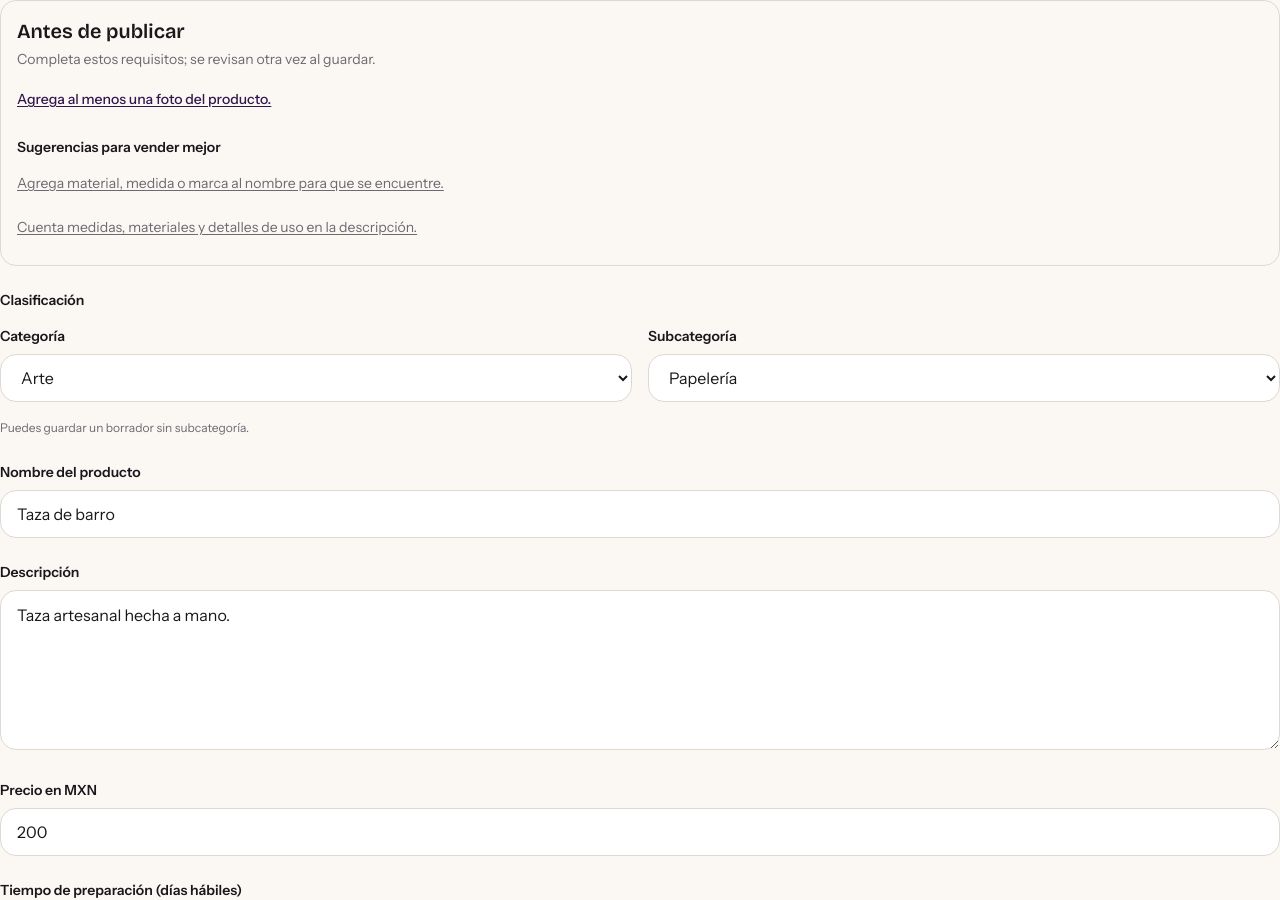
Test case: product submission recovery › clears checklist classification immediately when parent changes
Select "Selecciona una categoría" in the dropdown labelled "Categoría" at (316, 378), box [0, 354, 632, 402]
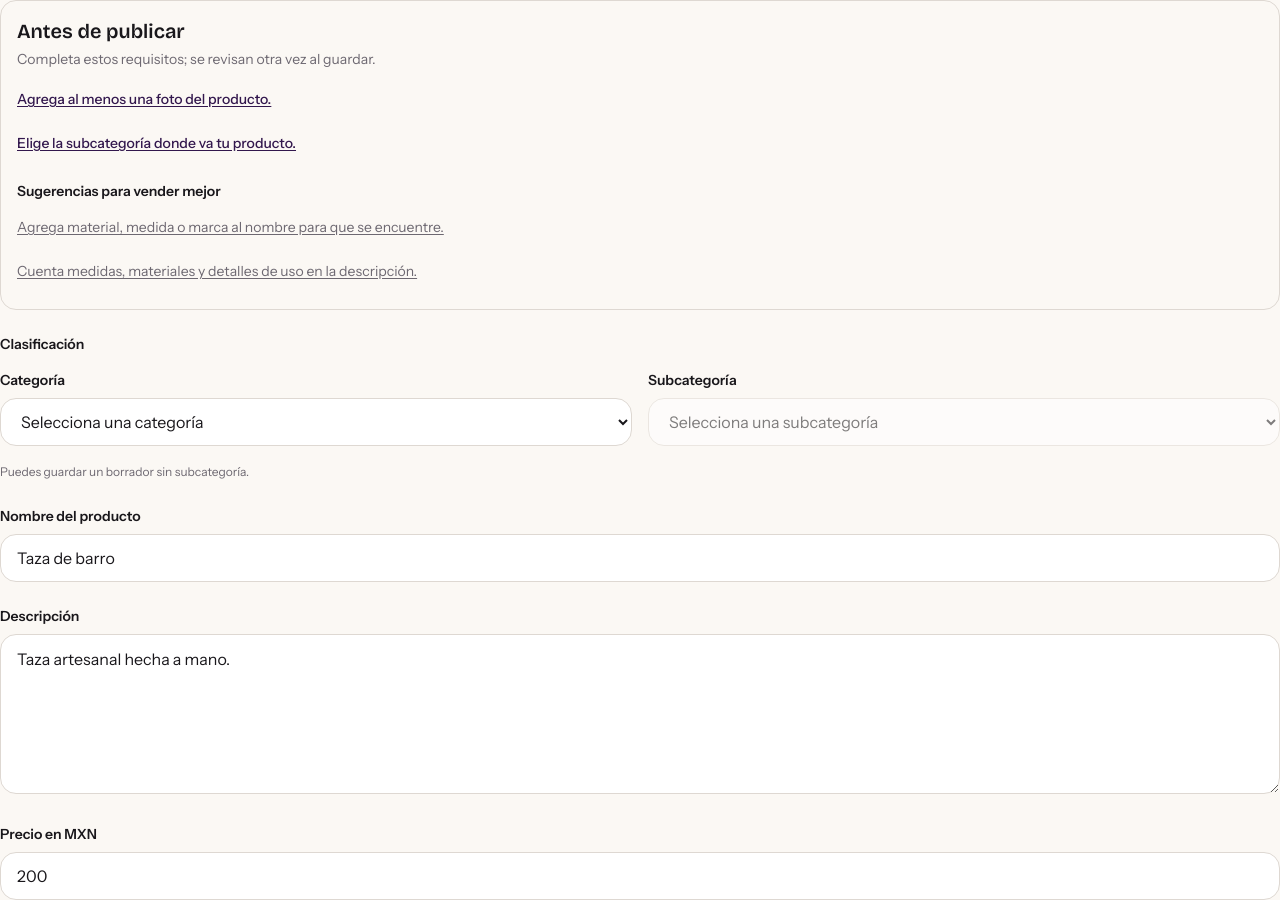
Check: the link "Elige la subcategoría donde va tu producto." is shown, box [17, 134, 296, 152]
Check: the dropdown labelled "Subcategoría" shows "Selecciona una subcategoría", box [648, 398, 1279, 446]
